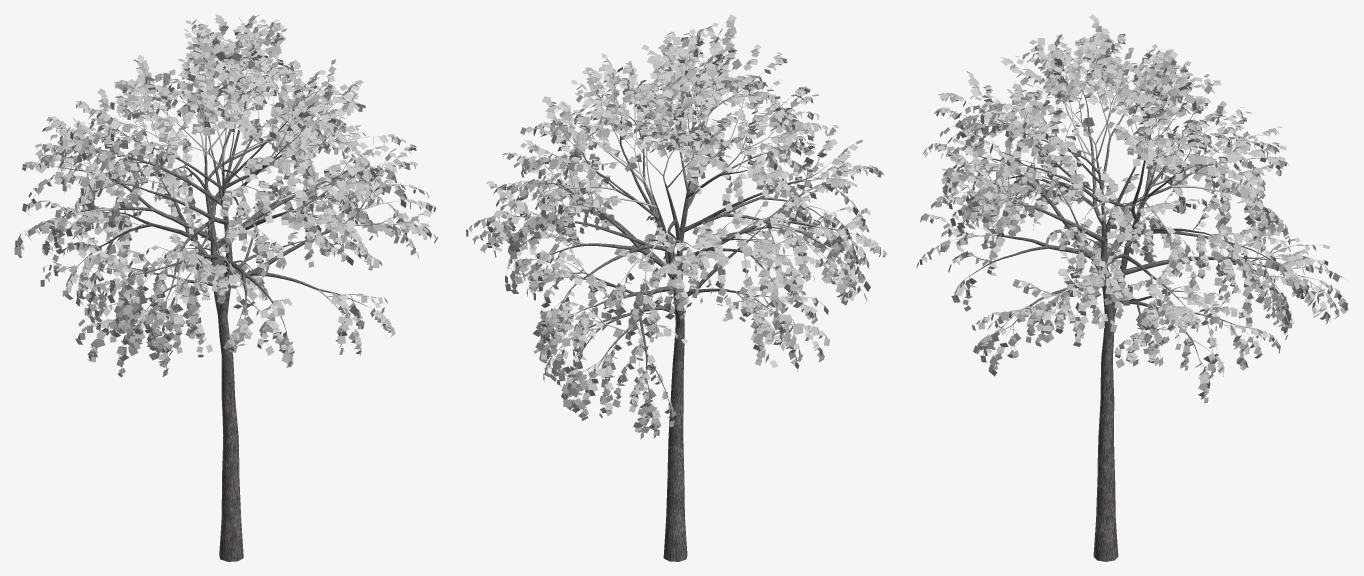
Rendered from GenTree_105_AE3D_03122023-F2.obj.
The picture shows the model from 3 angles, left to right: view 1: azimuth 30°, elevation 25°; view 2: azimuth 150°, elevation 25°; view 3: azimuth 270°, elevation 25°; orthographic projection. The views are drawn at different scales.
Visible parts, largest first — view 1: leaves.001_Material.010_-_Leaves, off, GenTRee_100-Branches_L2.002_Material.011_-_Secondary_Limbs, GenTree_100-Main_Trunk_Material.012_-_TRUNK; view 2: leaves.001_Material.010_-_Leaves, off, GenTRee_100-Branches_L2.002_Material.011_-_Secondary_Limbs, GenTree_100-Main_Trunk_Material.012_-_TRUNK; view 3: leaves.001_Material.010_-_Leaves, off, GenTRee_100-Branches_L2.002_Material.011_-_Secondary_Limbs, GenTree_100-Main_Trunk_Material.012_-_TRUNK.
Boxes of the visible parts, left/top/right/bottom form: leaves.001_Material.010_-_Leaves: left=14, top=14, right=437, bottom=377; off: left=21, top=18, right=436, bottom=373; GenTRee_100-Branches_L2.002_Material.011_-_Secondary_Limbs: left=43, top=42, right=384, bottom=334; GenTree_100-Main_Trunk_Material.012_-_TRUNK: left=204, top=148, right=243, bottom=561; leaves.001_Material.010_-_Leaves: left=466, top=14, right=887, bottom=439; off: left=467, top=24, right=885, bottom=428; GenTRee_100-Branches_L2.002_Material.011_-_Secondary_Limbs: left=515, top=67, right=853, bottom=403; GenTree_100-Main_Trunk_Material.012_-_TRUNK: left=652, top=184, right=687, bottom=561; leaves.001_Material.010_-_Leaves: left=916, top=14, right=1348, bottom=403; off: left=920, top=27, right=1345, bottom=396; GenTRee_100-Branches_L2.002_Material.011_-_Secondary_Limbs: left=961, top=83, right=1315, bottom=336; GenTree_100-Main_Trunk_Material.012_-_TRUNK: left=1093, top=167, right=1153, bottom=561.
Bounding box in the file's own units: 10.8 × 14.73 × 11.28.
